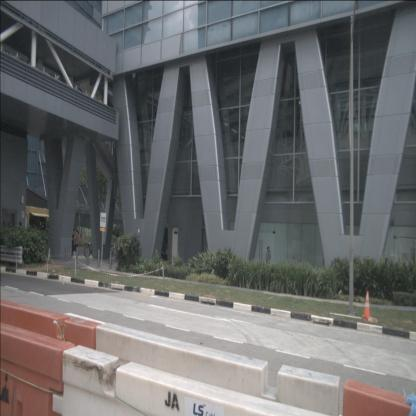barrier: (94, 319, 345, 413), (52, 345, 334, 415), (1, 300, 97, 416), (0, 321, 76, 415), (342, 379, 415, 415)
cone: (362, 291, 372, 320)
